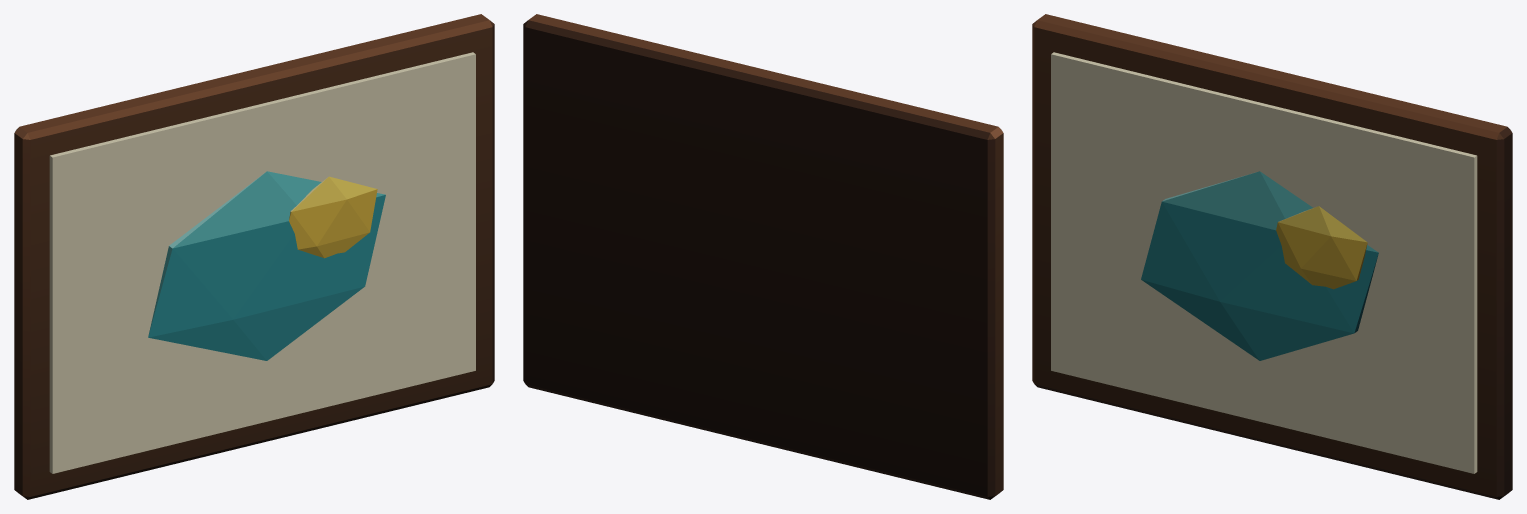
The model's file is painting.glb.
The picture shows the model from 3 angles, left to right: view 1: azimuth 30°, elevation 25°; view 2: azimuth 150°, elevation 25°; view 3: azimuth 330°, elevation 25°; orthographic projection.
Visible parts, largest first — view 1: painting; view 2: painting; view 3: painting.
Part boxes in pixels (x1,y1,x2,y2): painting: [14, 14, 494, 499]; painting: [523, 14, 1003, 499]; painting: [1032, 14, 1512, 499].
Size of the model in its own units: 0.78 by 0.58 by 0.0685.
